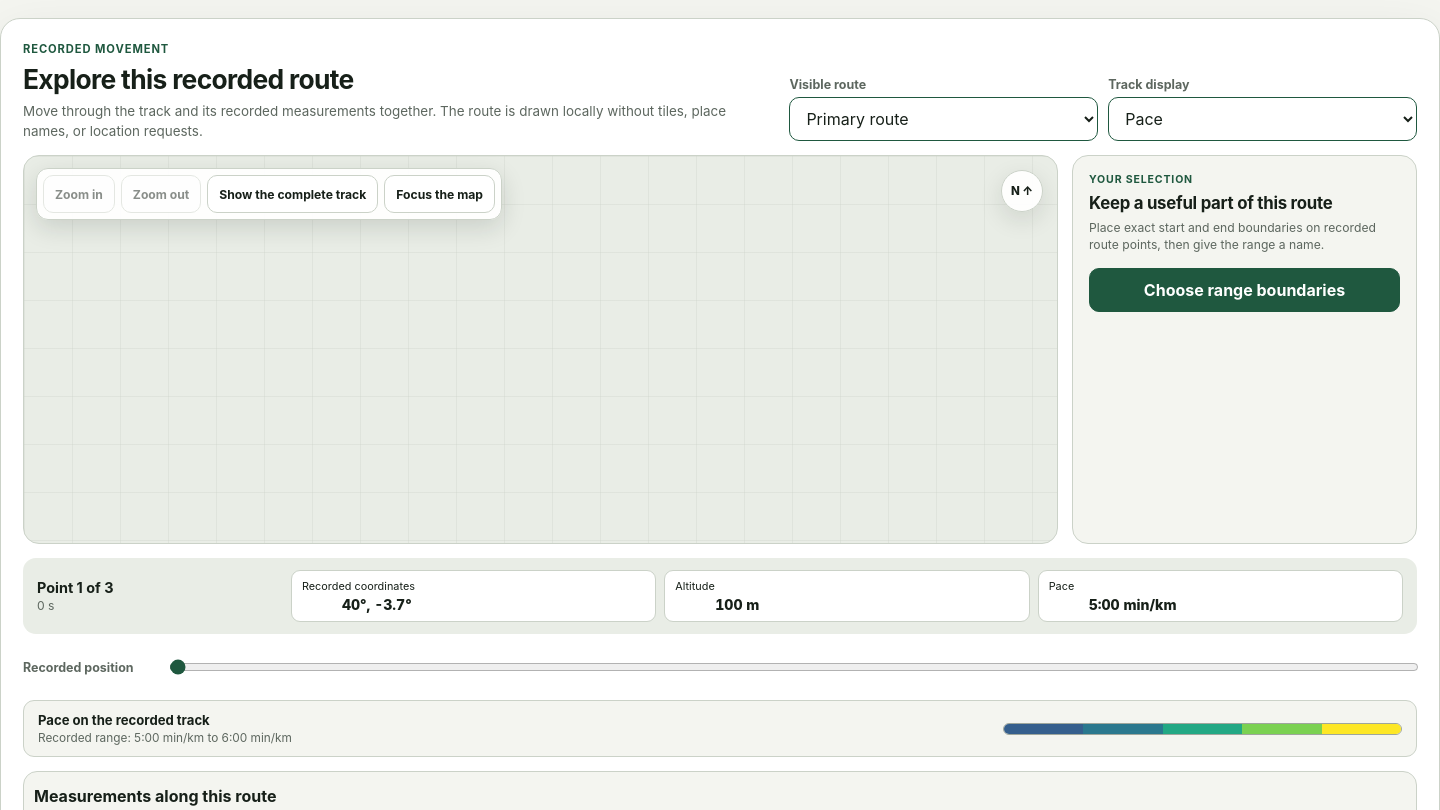
TrainingRouteWorkbench › keeps an unsaved route selection editable when its exact preview fails and retries it
Click the button "Choose range boundaries": (1244, 290) [1089, 268, 1400, 312]
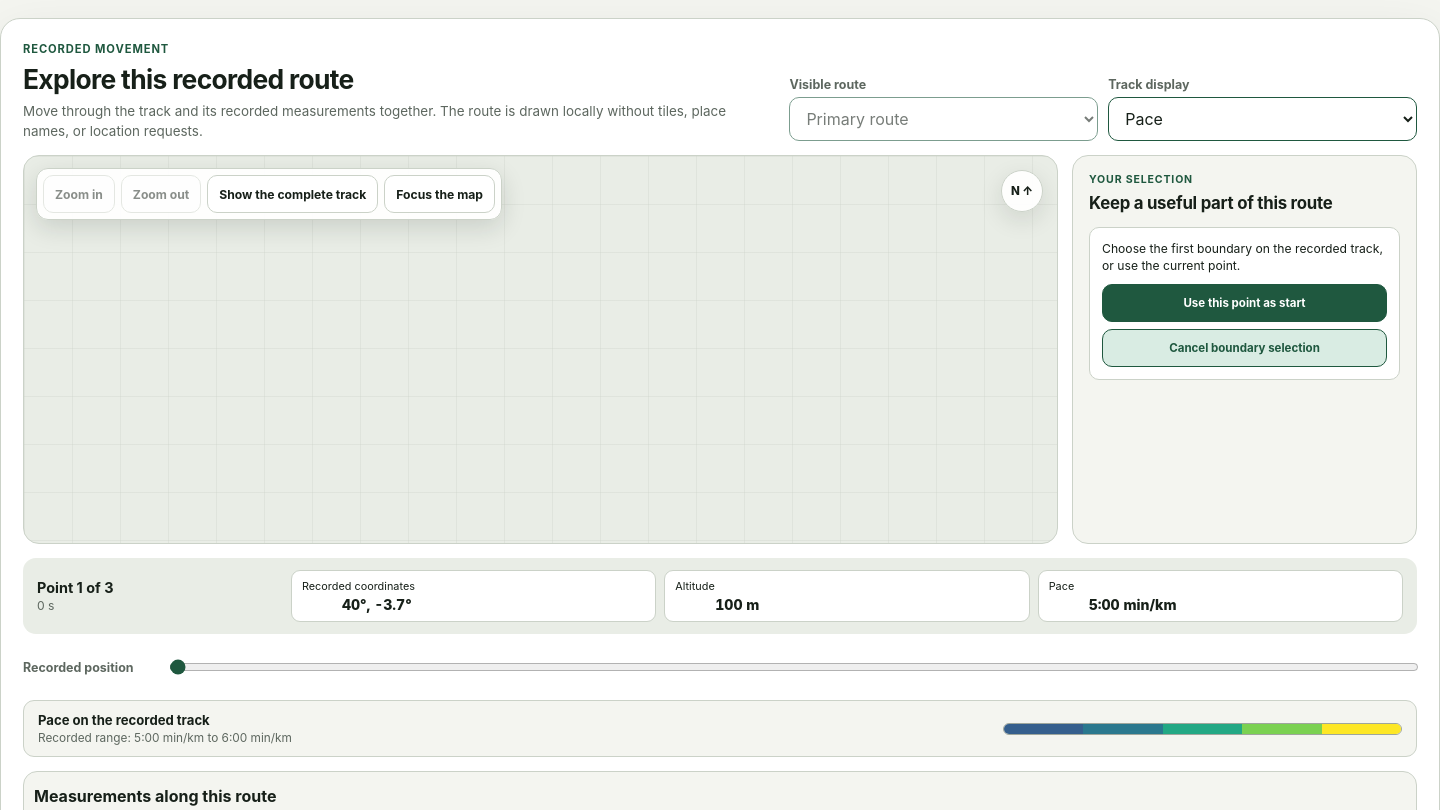
Click the button "Use this point as start": (1244, 303) [1102, 284, 1387, 322]
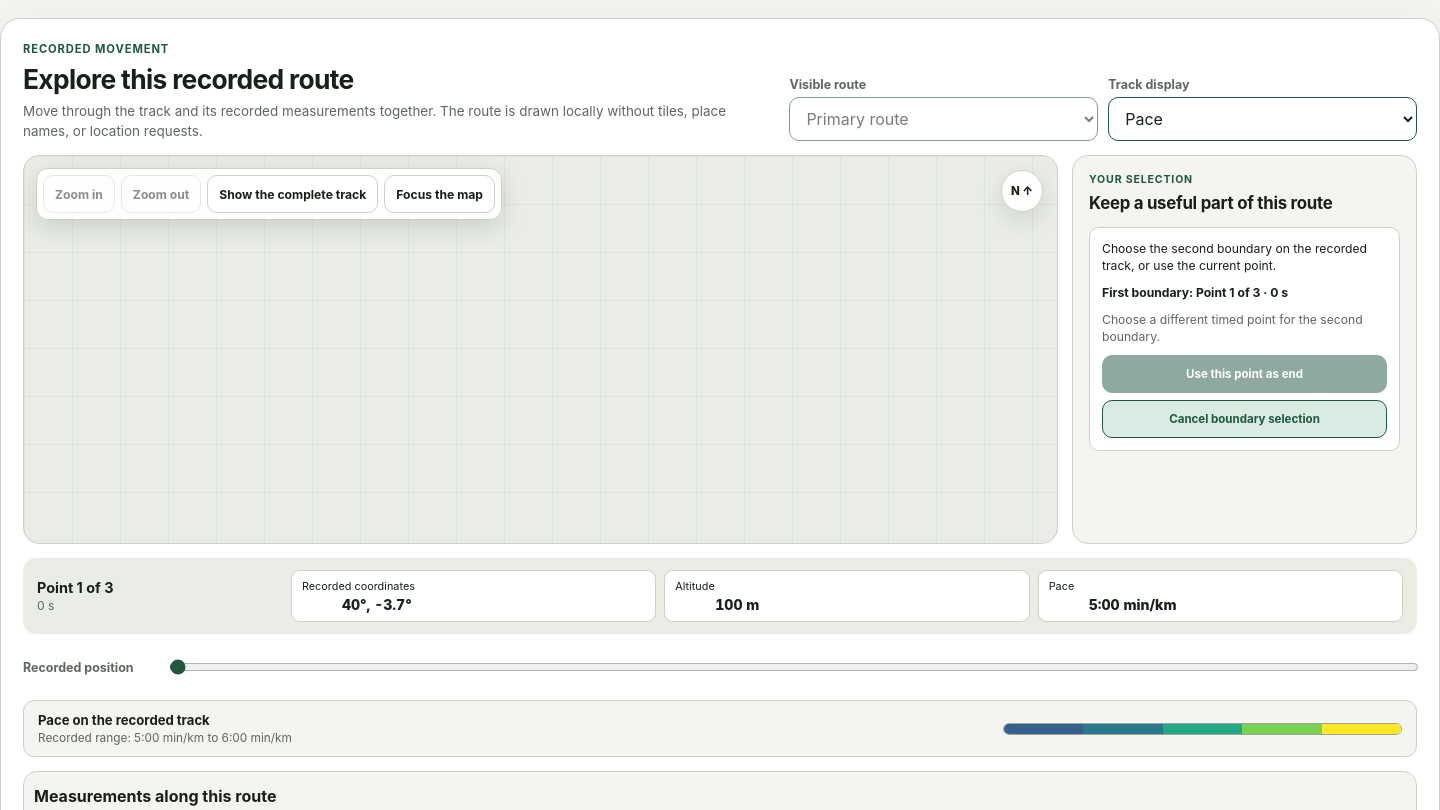
Set the slider labelled "Recorded position" to "1": (794, 667) [169, 650, 1419, 684]
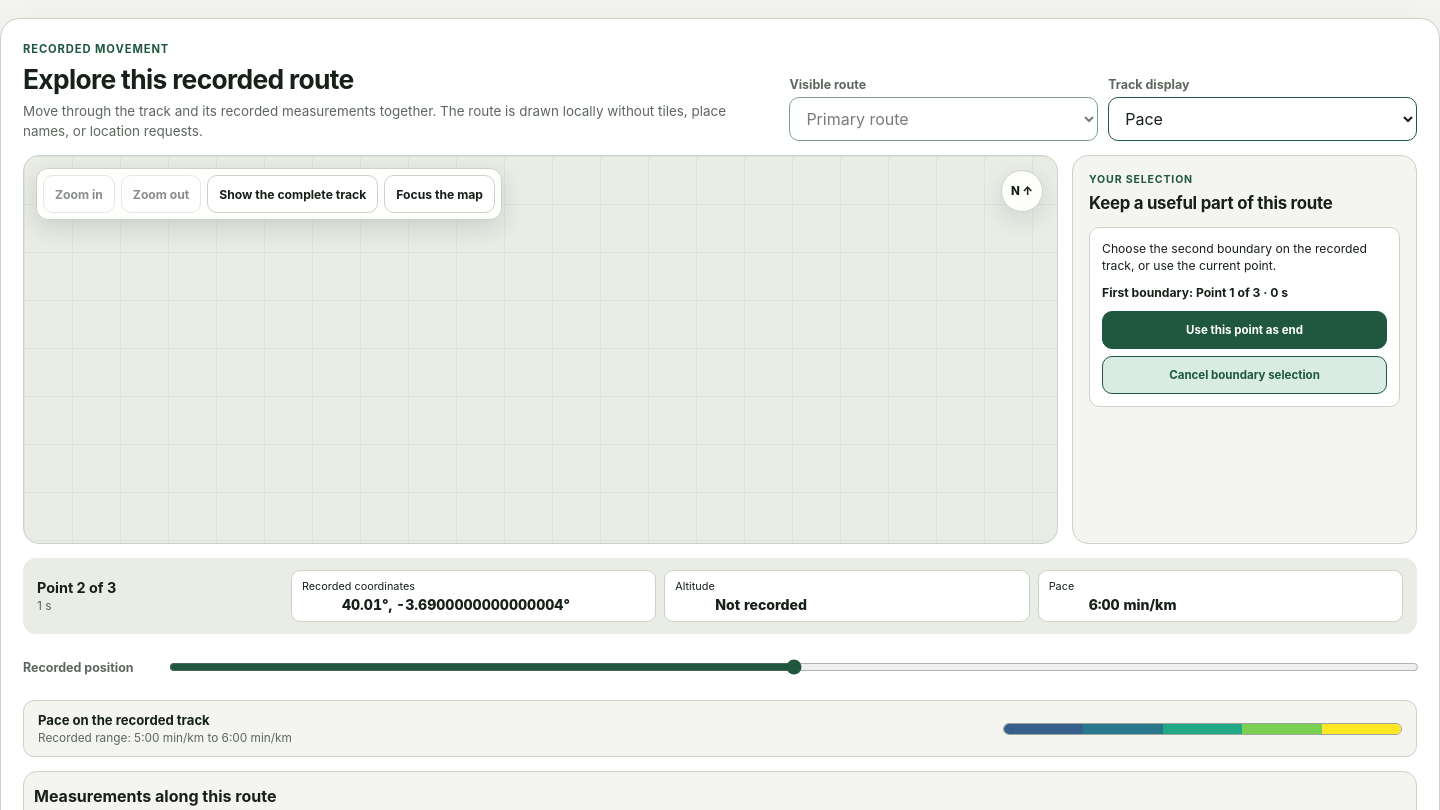
Click the button "Use this point as end": (1244, 330) [1102, 311, 1387, 349]
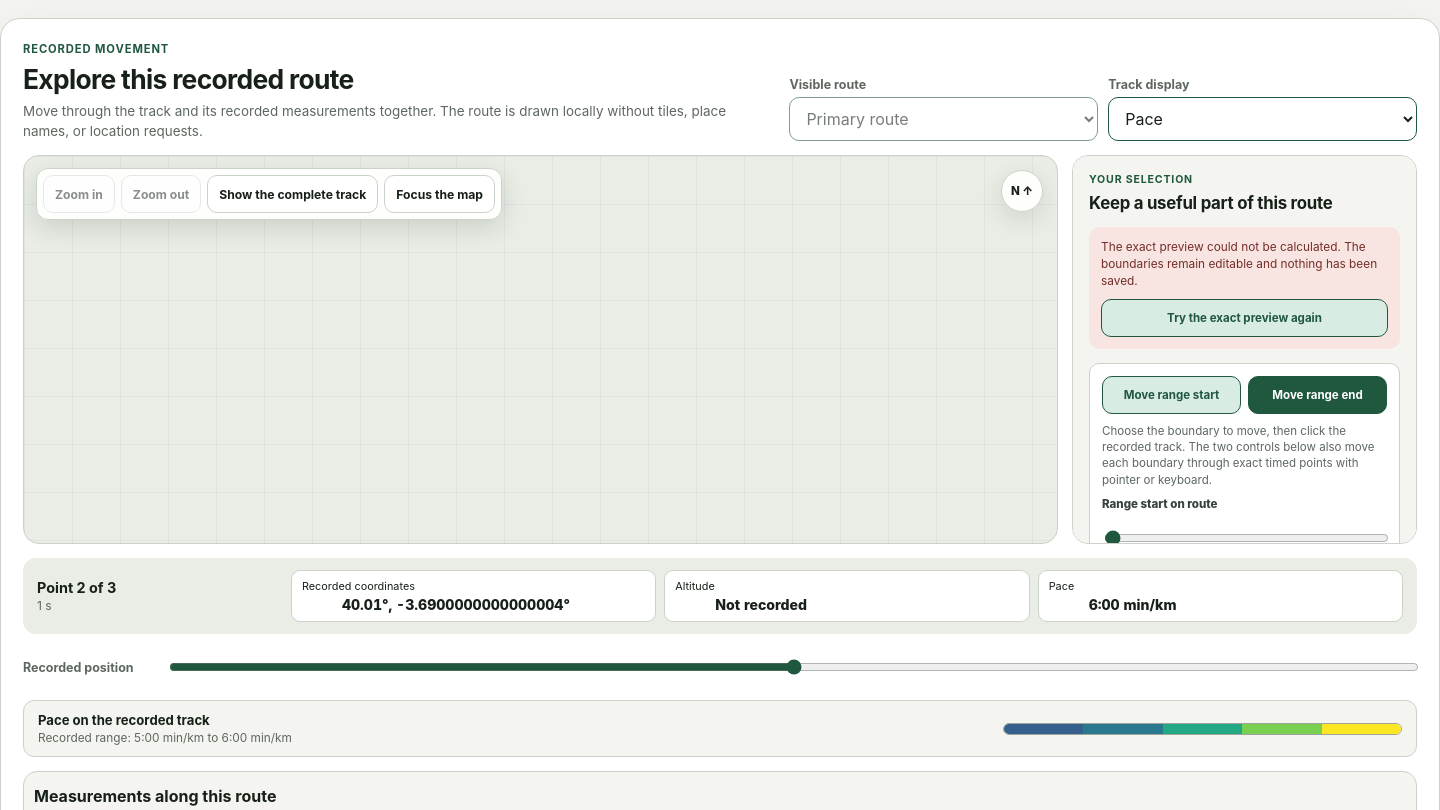
Expected: the text "The exact preview could not be calculated. The boundaries remain editable and nothing has been saved." is shown, [1101, 240, 1377, 288]
Click the button "Try the exact preview again": (1244, 318) [1101, 299, 1388, 337]
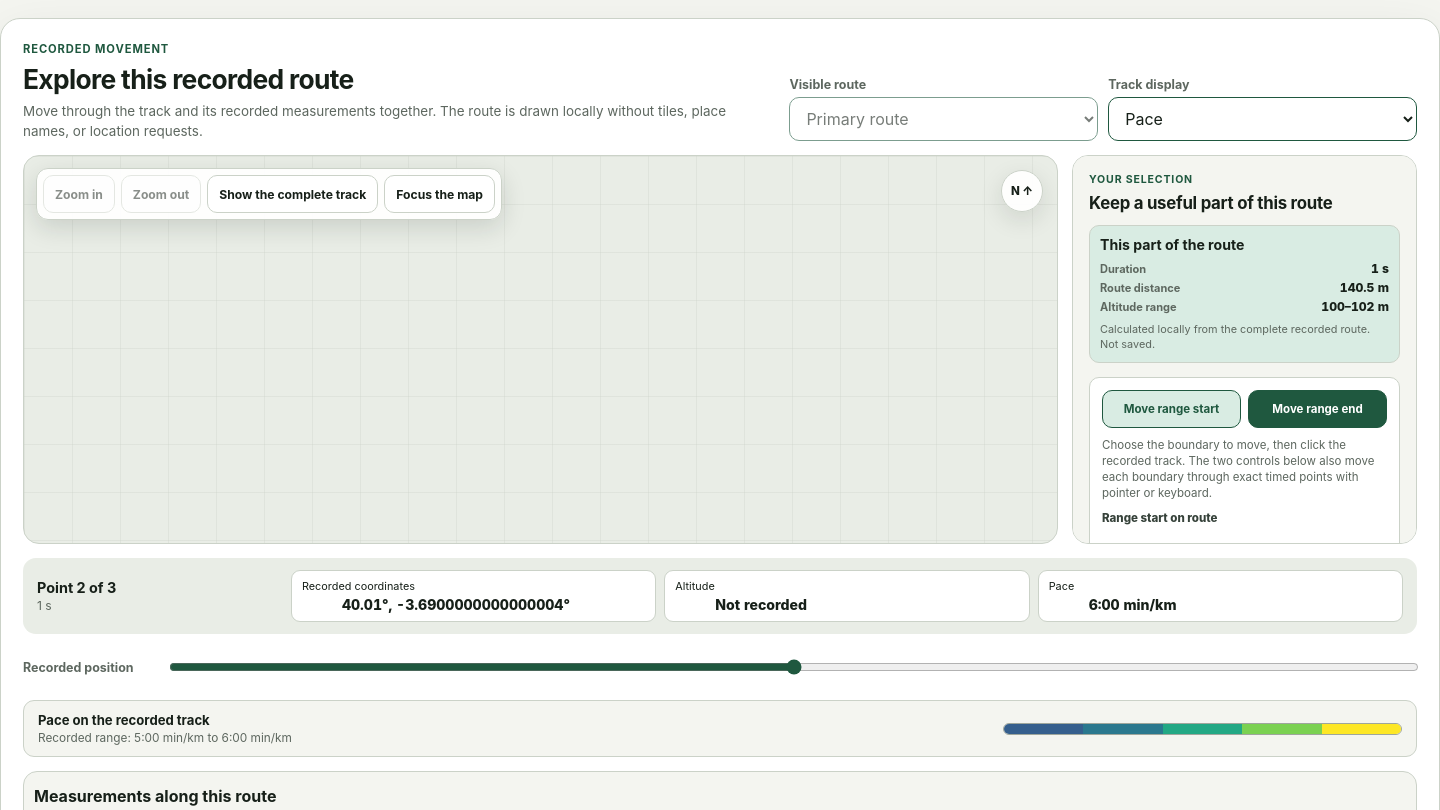
Expected: the element named "Exact selection preview" shows "140.5 m", [1340, 280, 1389, 295]
